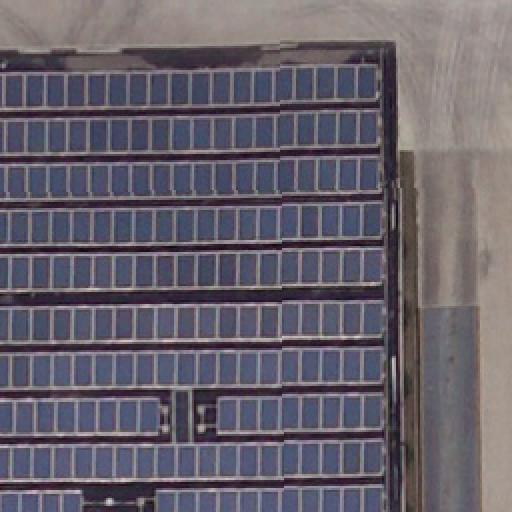solar-panel: (0, 202, 384, 290), (0, 156, 384, 204), (1, 110, 383, 158), (1, 64, 383, 112), (0, 437, 388, 483), (0, 345, 384, 391), (0, 300, 384, 344), (216, 390, 388, 434), (0, 394, 160, 438), (155, 484, 389, 512), (0, 489, 84, 511)
